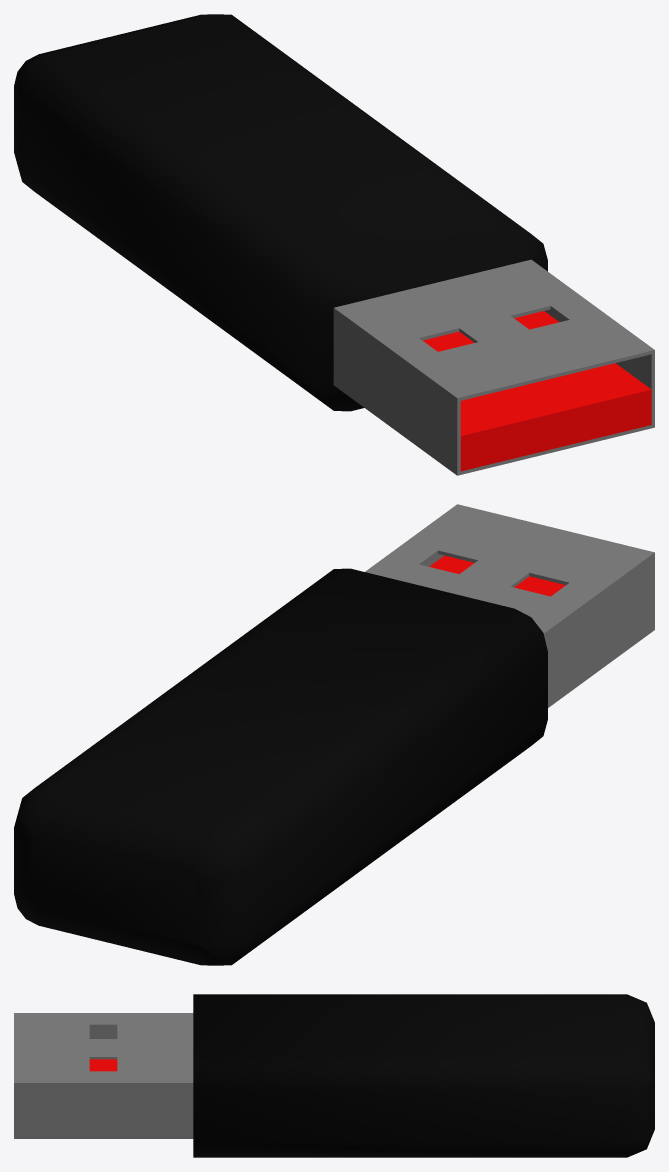
Rendered from thumb_drive.obj.
3 renders of one model, top to bottom at view 1: azimuth 30°, elevation 25°; view 2: azimuth 150°, elevation 25°; view 3: azimuth 270°, elevation 25°, orthographic. The views are drawn at different scales.
Parts seen in each view (by area): view 1: ThumbDrive; view 2: ThumbDrive; view 3: ThumbDrive.
Boxes of the visible parts, bbox=[...] form: ThumbDrive: bbox=[14, 14, 654, 475]; ThumbDrive: bbox=[14, 504, 654, 965]; ThumbDrive: bbox=[14, 994, 654, 1157].
Size of the model in its own units: 0.014 by 0.008 by 0.0465.
